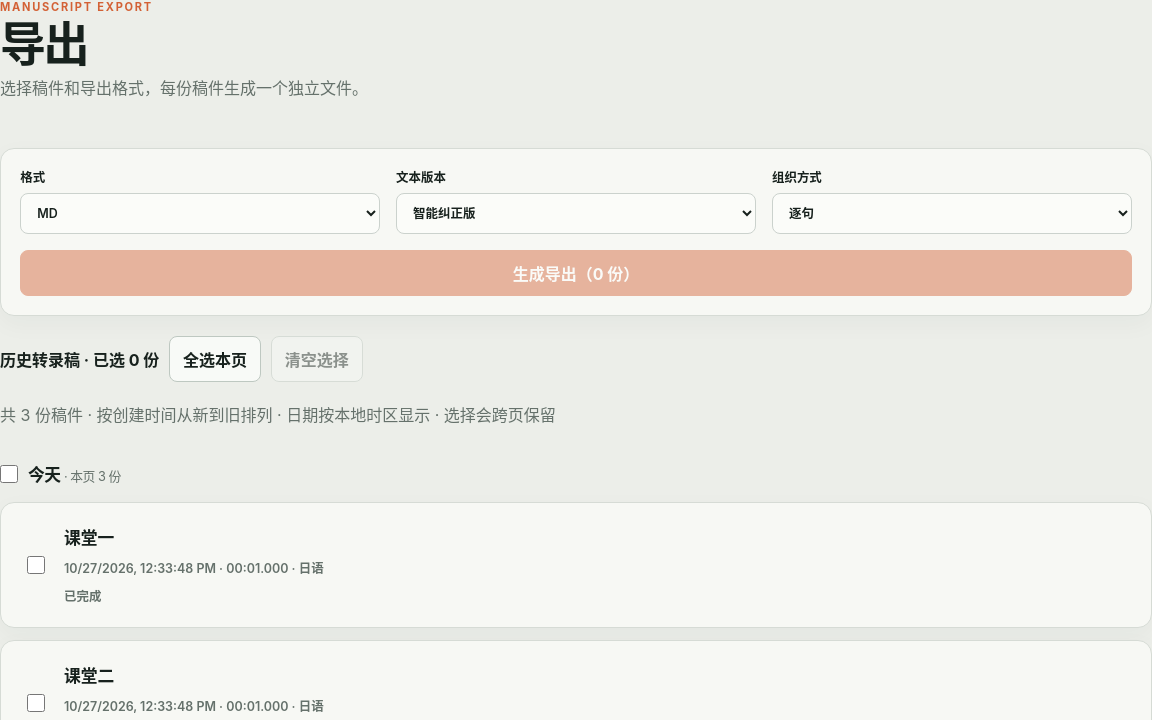
Test case: selects only exportable manuscripts for a date and reflects partial selection
Click the checkbox labelled "课堂一 10/27/2026, 12:33:48 PM · 00:01.000 · 日语 已完成" at (36, 565), box 27,556 -> 45,574
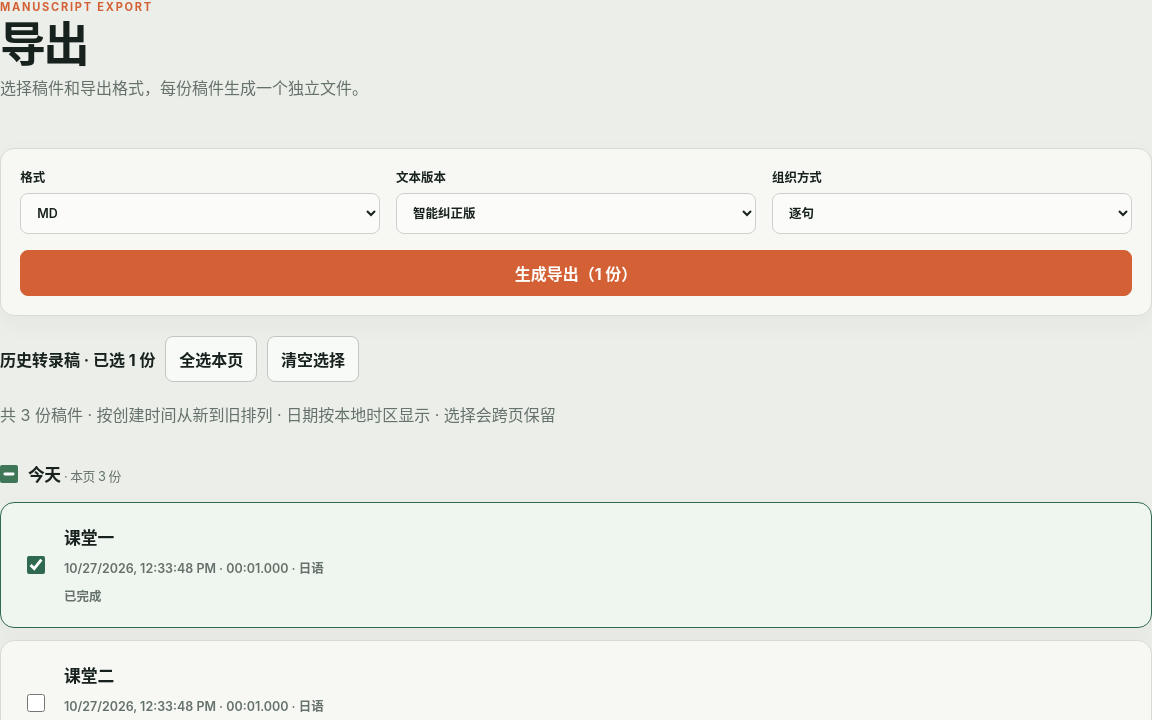
Click the checkbox named "选择今天的全部可导出稿件" at (9, 474), box 0,465 -> 18,483
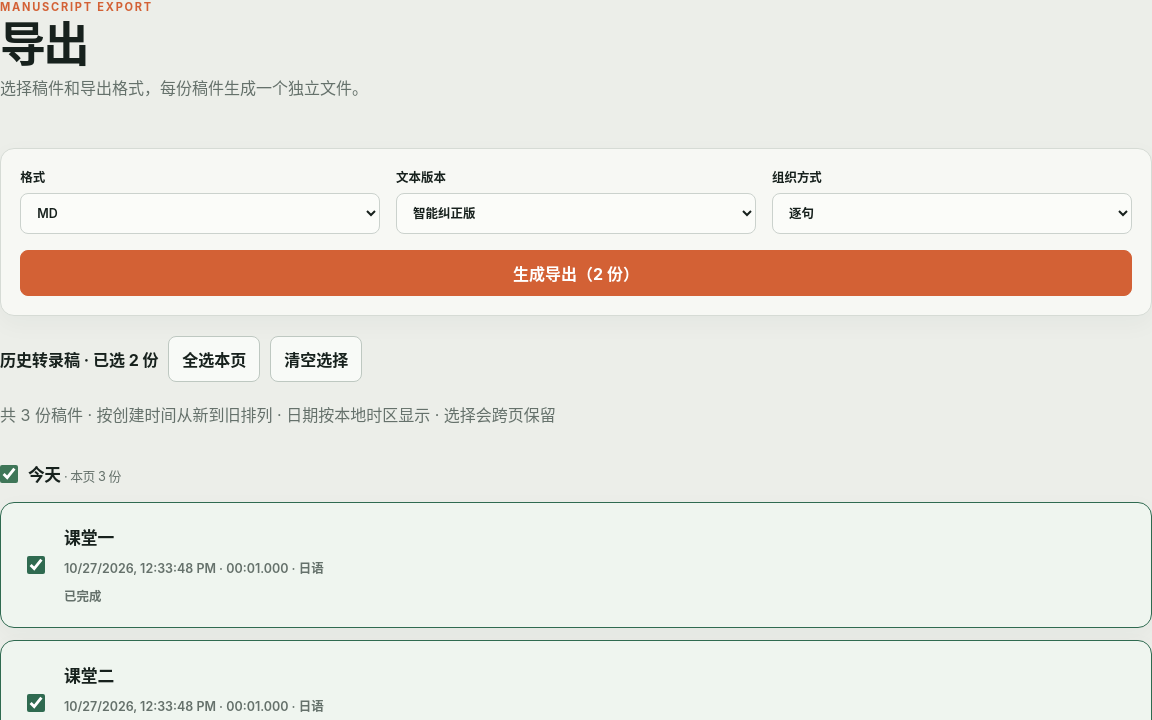
Expected: the checkbox named "选择今天的全部可导出稿件" is checked
Expected: the checkbox labelled "课堂一 10/27/2026, 12:33:48 PM · 00:01.000 · 日语 已完成" is checked, 27,556 -> 45,574
Expected: the checkbox labelled "课堂二 10/27/2026, 12:33:48 PM · 00:01.000 · 日语 已完成" is checked, 27,694 -> 45,712
Click the checkbox named "选择今天的全部可导出稿件" at (9, 474), box 0,465 -> 18,483
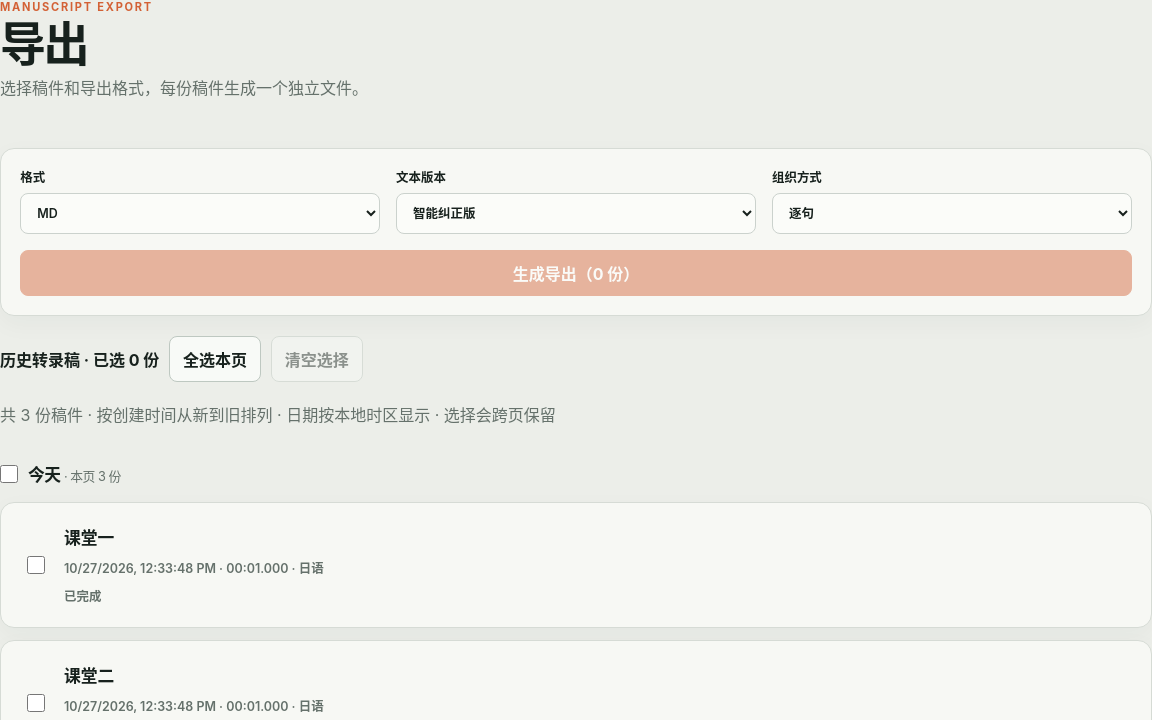
Expected: the checkbox labelled "课堂一 10/27/2026, 12:33:48 PM · 00:01.000 · 日语 已完成" is not checked, 27,556 -> 45,574
Expected: the checkbox labelled "课堂二 10/27/2026, 12:33:48 PM · 00:01.000 · 日语 已完成" is not checked, 27,694 -> 45,712
